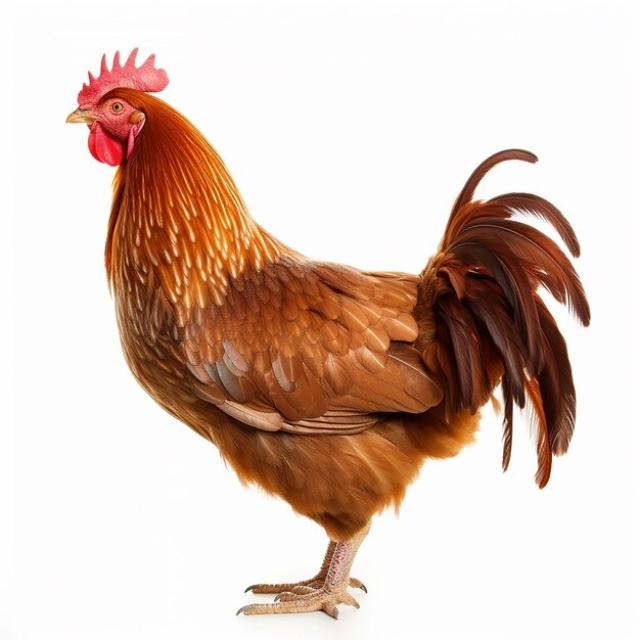Chicken: (66, 46, 592, 623)
